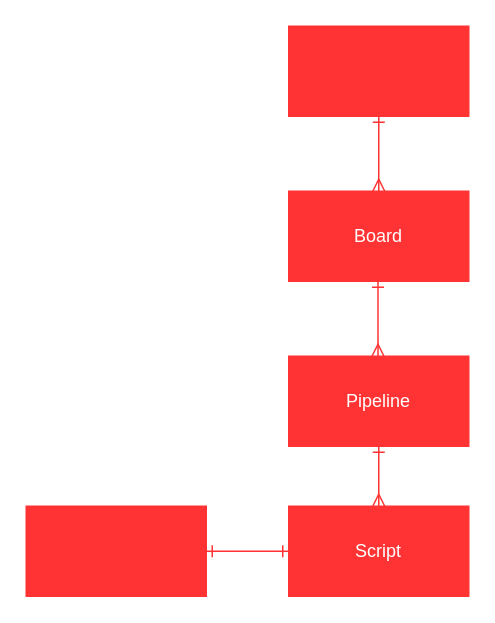
Some shapes in this 495 by 623 pixel diagram are drawn without their labels. The shapes that lost their labels are listed below. From the top down, each one's centre as x and y in pixels, then its label:
At point 378,70: "Team".
At point 115,550: "Configuration".
